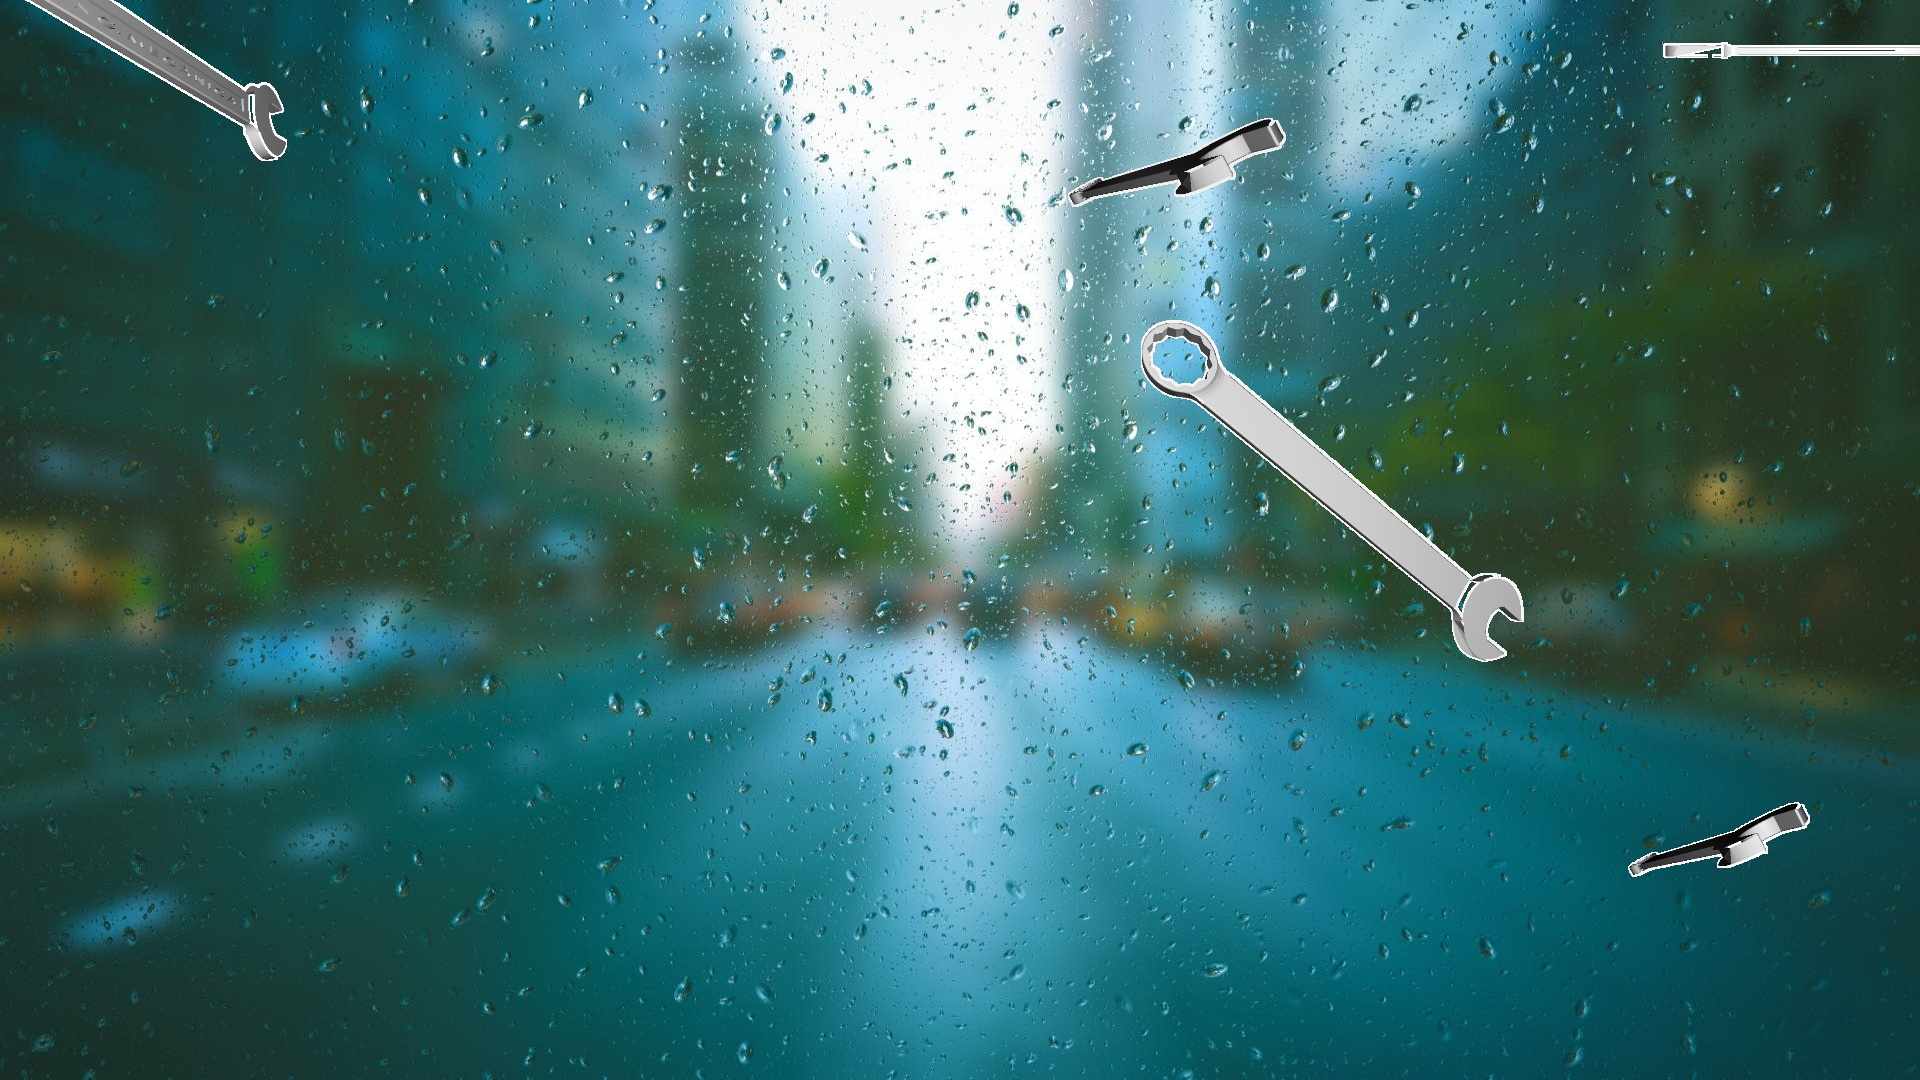Mixed Key: (1141, 320, 1523, 661), (25, 0, 286, 160), (1068, 117, 1284, 206), (1629, 802, 1809, 876), (1663, 42, 1919, 58)
